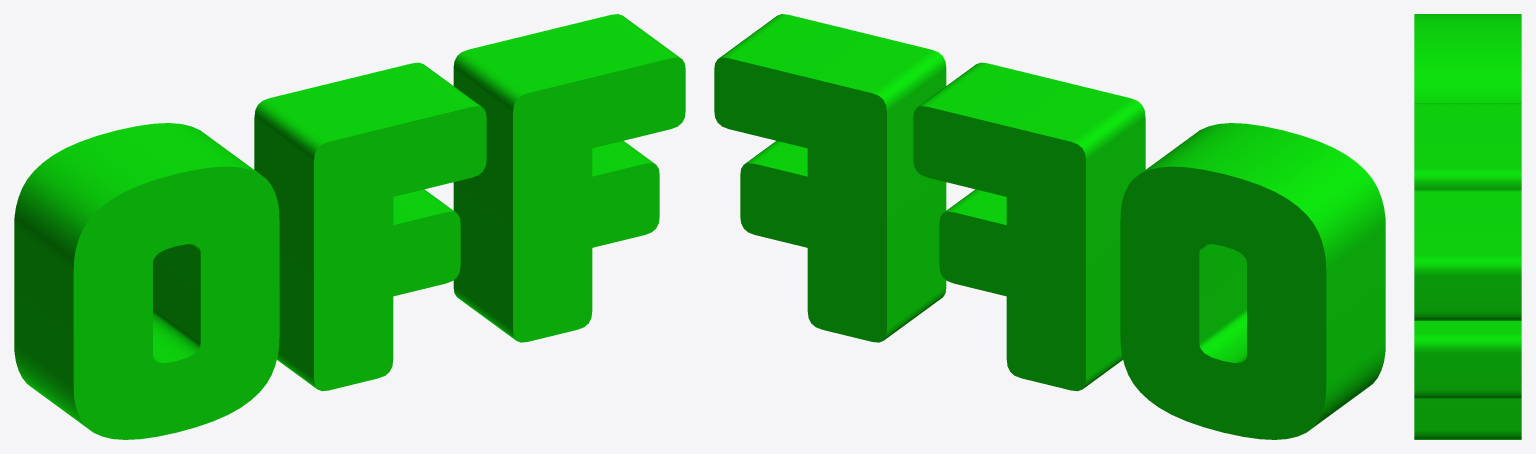
3 views of the same model, side by side, from view 1: azimuth 30°, elevation 25°; view 2: azimuth 150°, elevation 25°; view 3: azimuth 270°, elevation 25° (orthographic). The views are drawn at different scales.
Visible parts, largest first — view 1: typeMesh2; view 2: typeMesh2; view 3: typeMesh2.
Boxes of the visible parts, box(x1,y1,x2,y2) form: typeMesh2: box(14, 14, 685, 439); typeMesh2: box(714, 14, 1385, 439); typeMesh2: box(1414, 14, 1521, 439).
Bounding box in the file's own units: 7.91 × 3.2 × 1.33.
